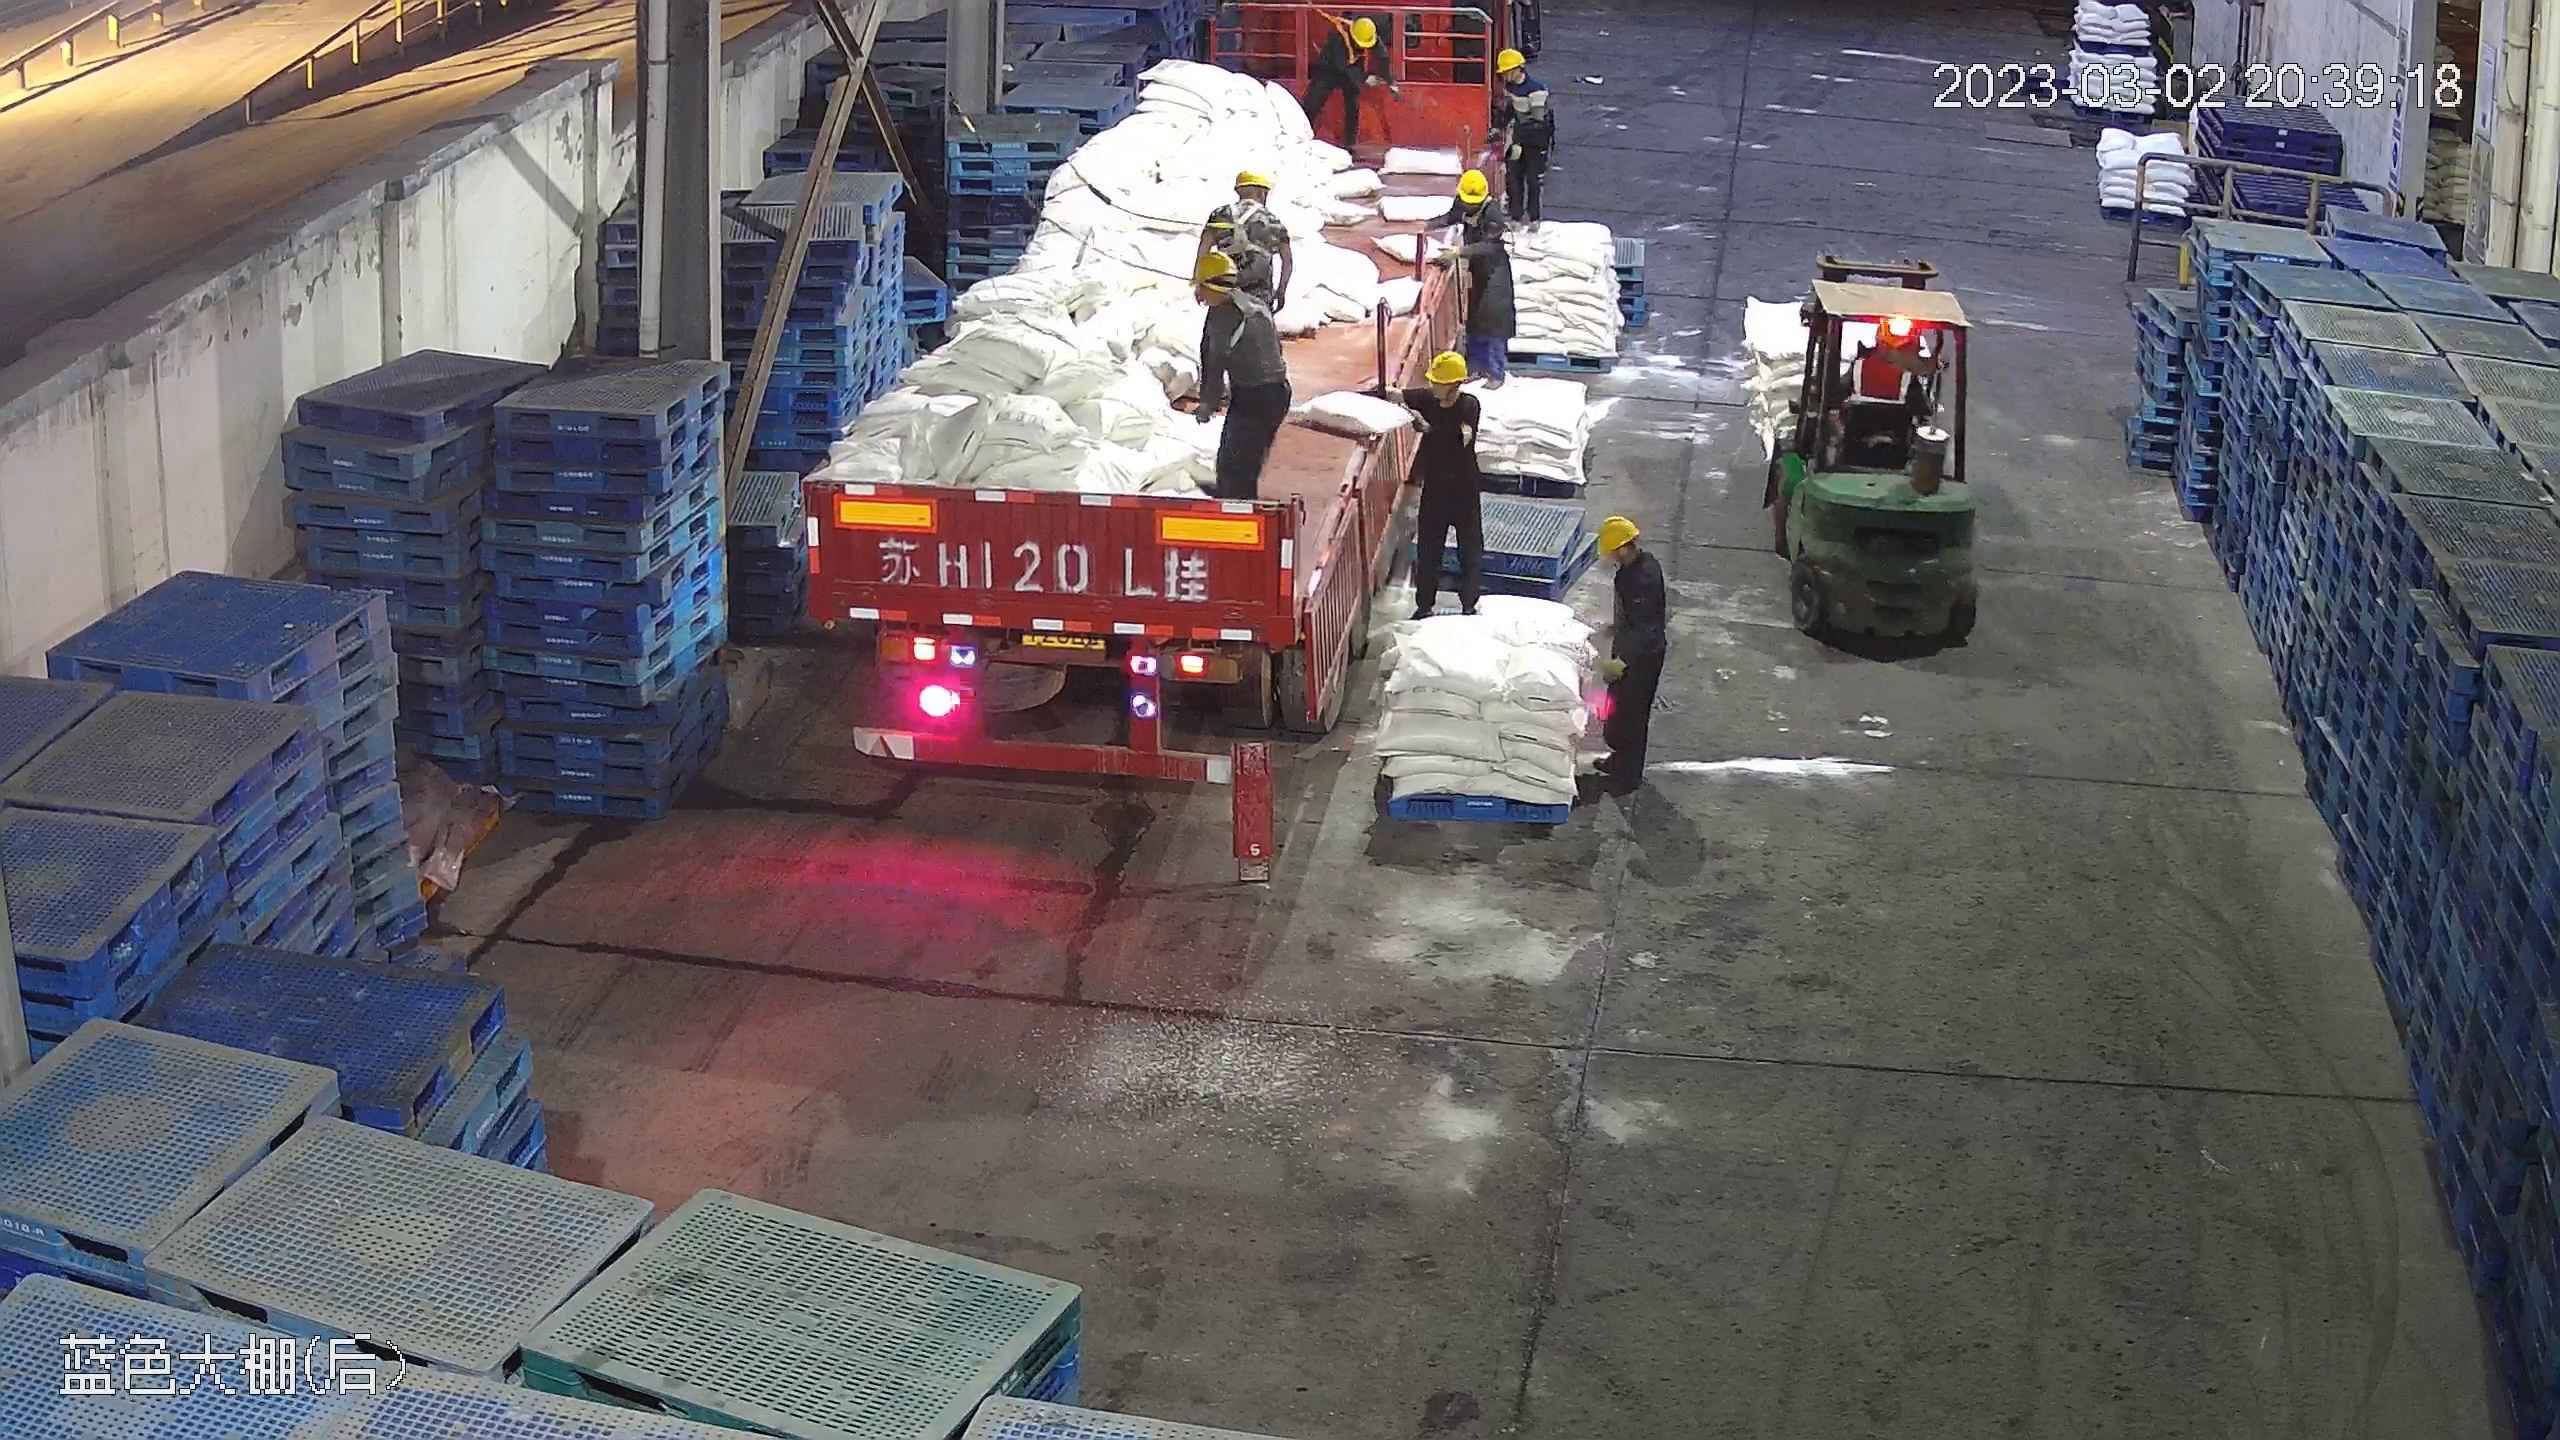belt: (1216, 290, 1291, 361), (1229, 201, 1287, 259), (1324, 13, 1370, 71), (1458, 196, 1491, 227)
head: (1189, 247, 1277, 340), (1593, 512, 1669, 608), (1409, 347, 1481, 441), (1437, 165, 1505, 241), (1215, 167, 1288, 236), (1489, 46, 1547, 105), (1318, 9, 1385, 59)
helmet: (1188, 246, 1235, 289), (1594, 513, 1641, 554), (1420, 346, 1468, 382), (1454, 168, 1489, 205), (1233, 167, 1271, 191), (1349, 14, 1377, 46), (1493, 47, 1527, 74)
people: (1177, 244, 1294, 500), (1585, 511, 1675, 805), (1400, 343, 1487, 621), (1426, 165, 1515, 391), (1305, 14, 1394, 173), (1486, 55, 1558, 222)
truck: (796, 14, 1509, 792)
